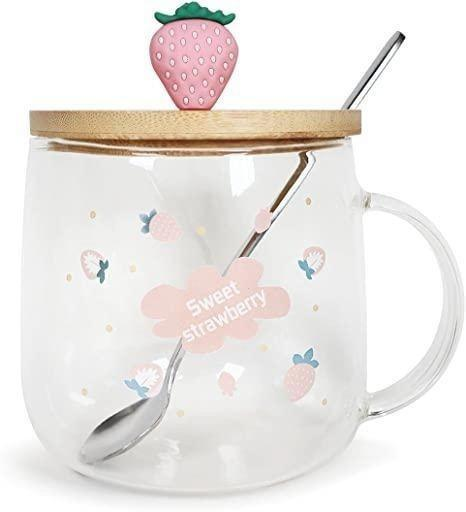glass-mug: (14, 95, 462, 512)
